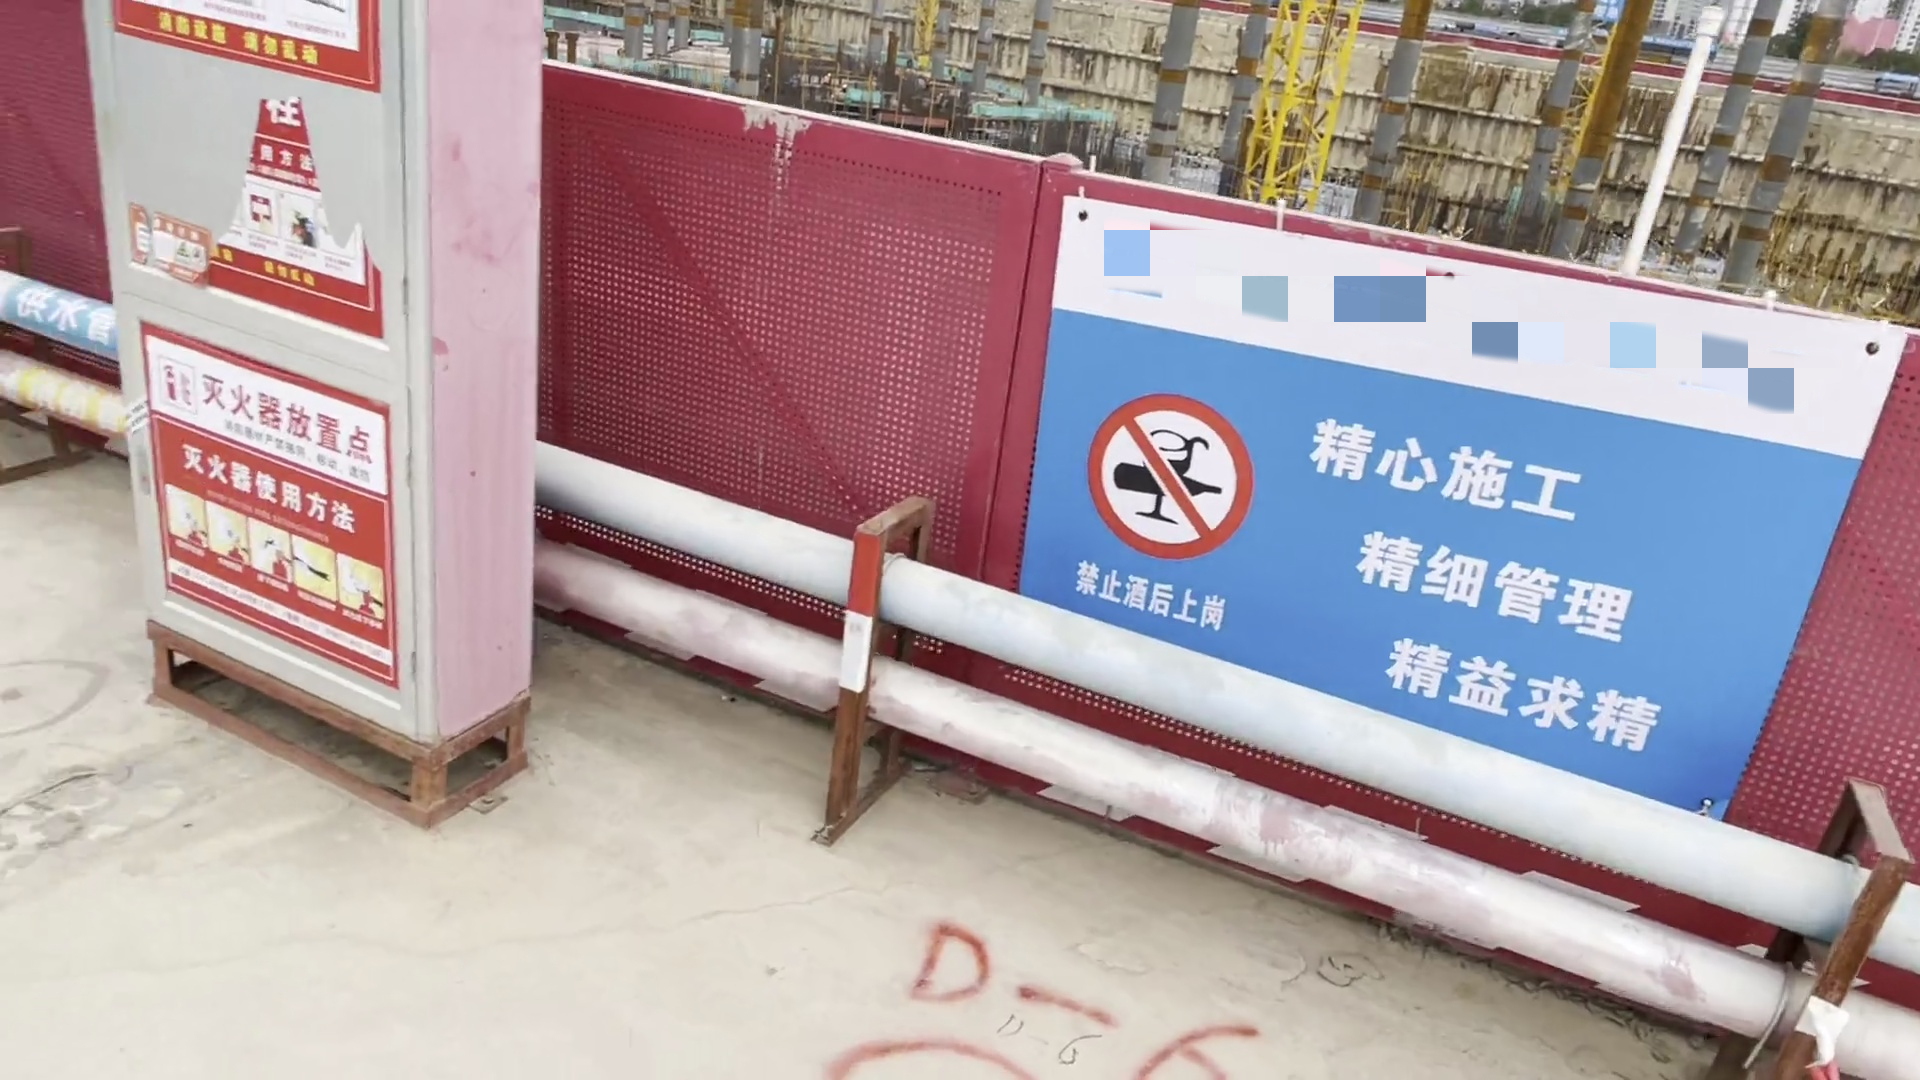slogan: (1025, 306, 1873, 884)
